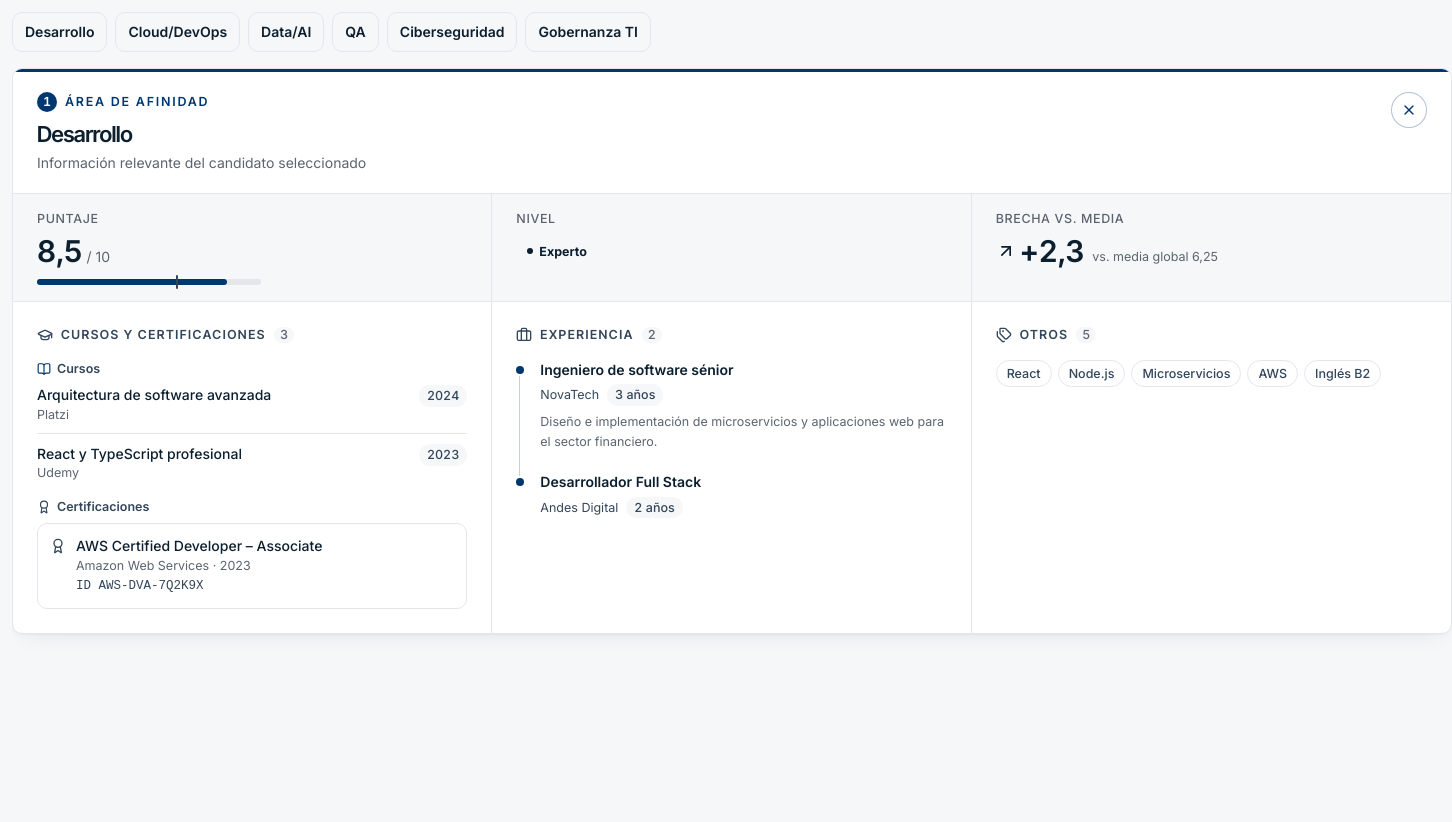
Scenario: AreaDetailInteraction - pruebas de UI › conserva el panel al cambiar entre áreas
Click the button "Cloud/DevOps".
click(178, 32)  # box [116,12,240,52]
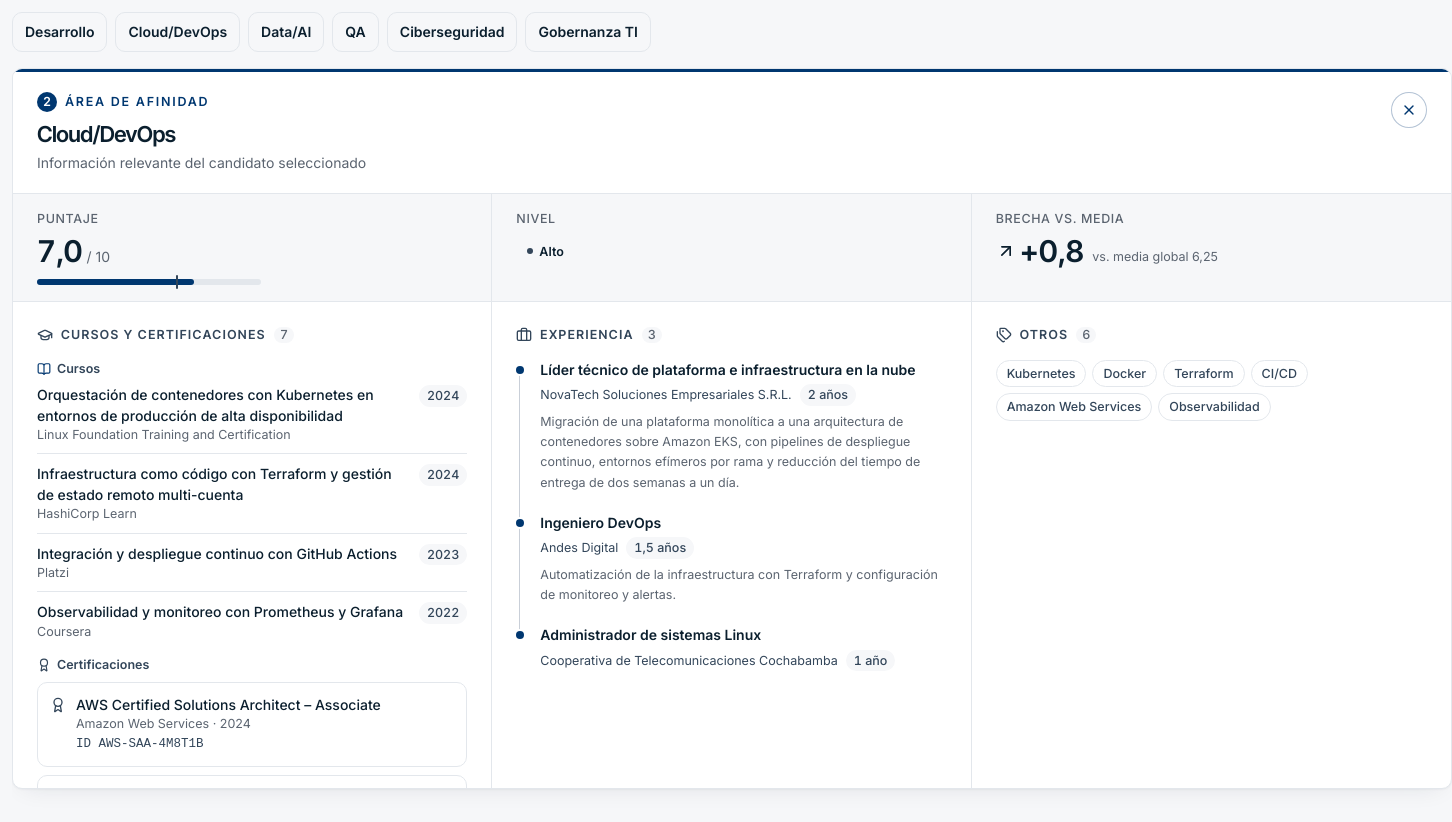
Expected: the element "Cloud/DevOps" is shown
